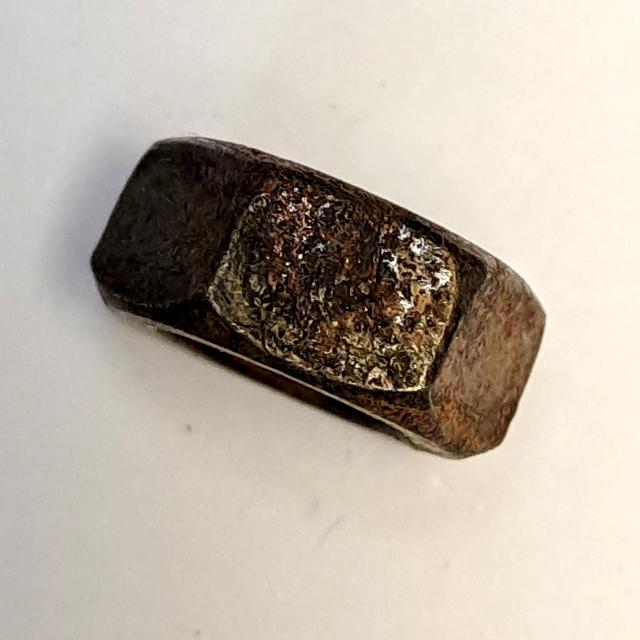Side_Rust: (74, 113, 569, 473)
